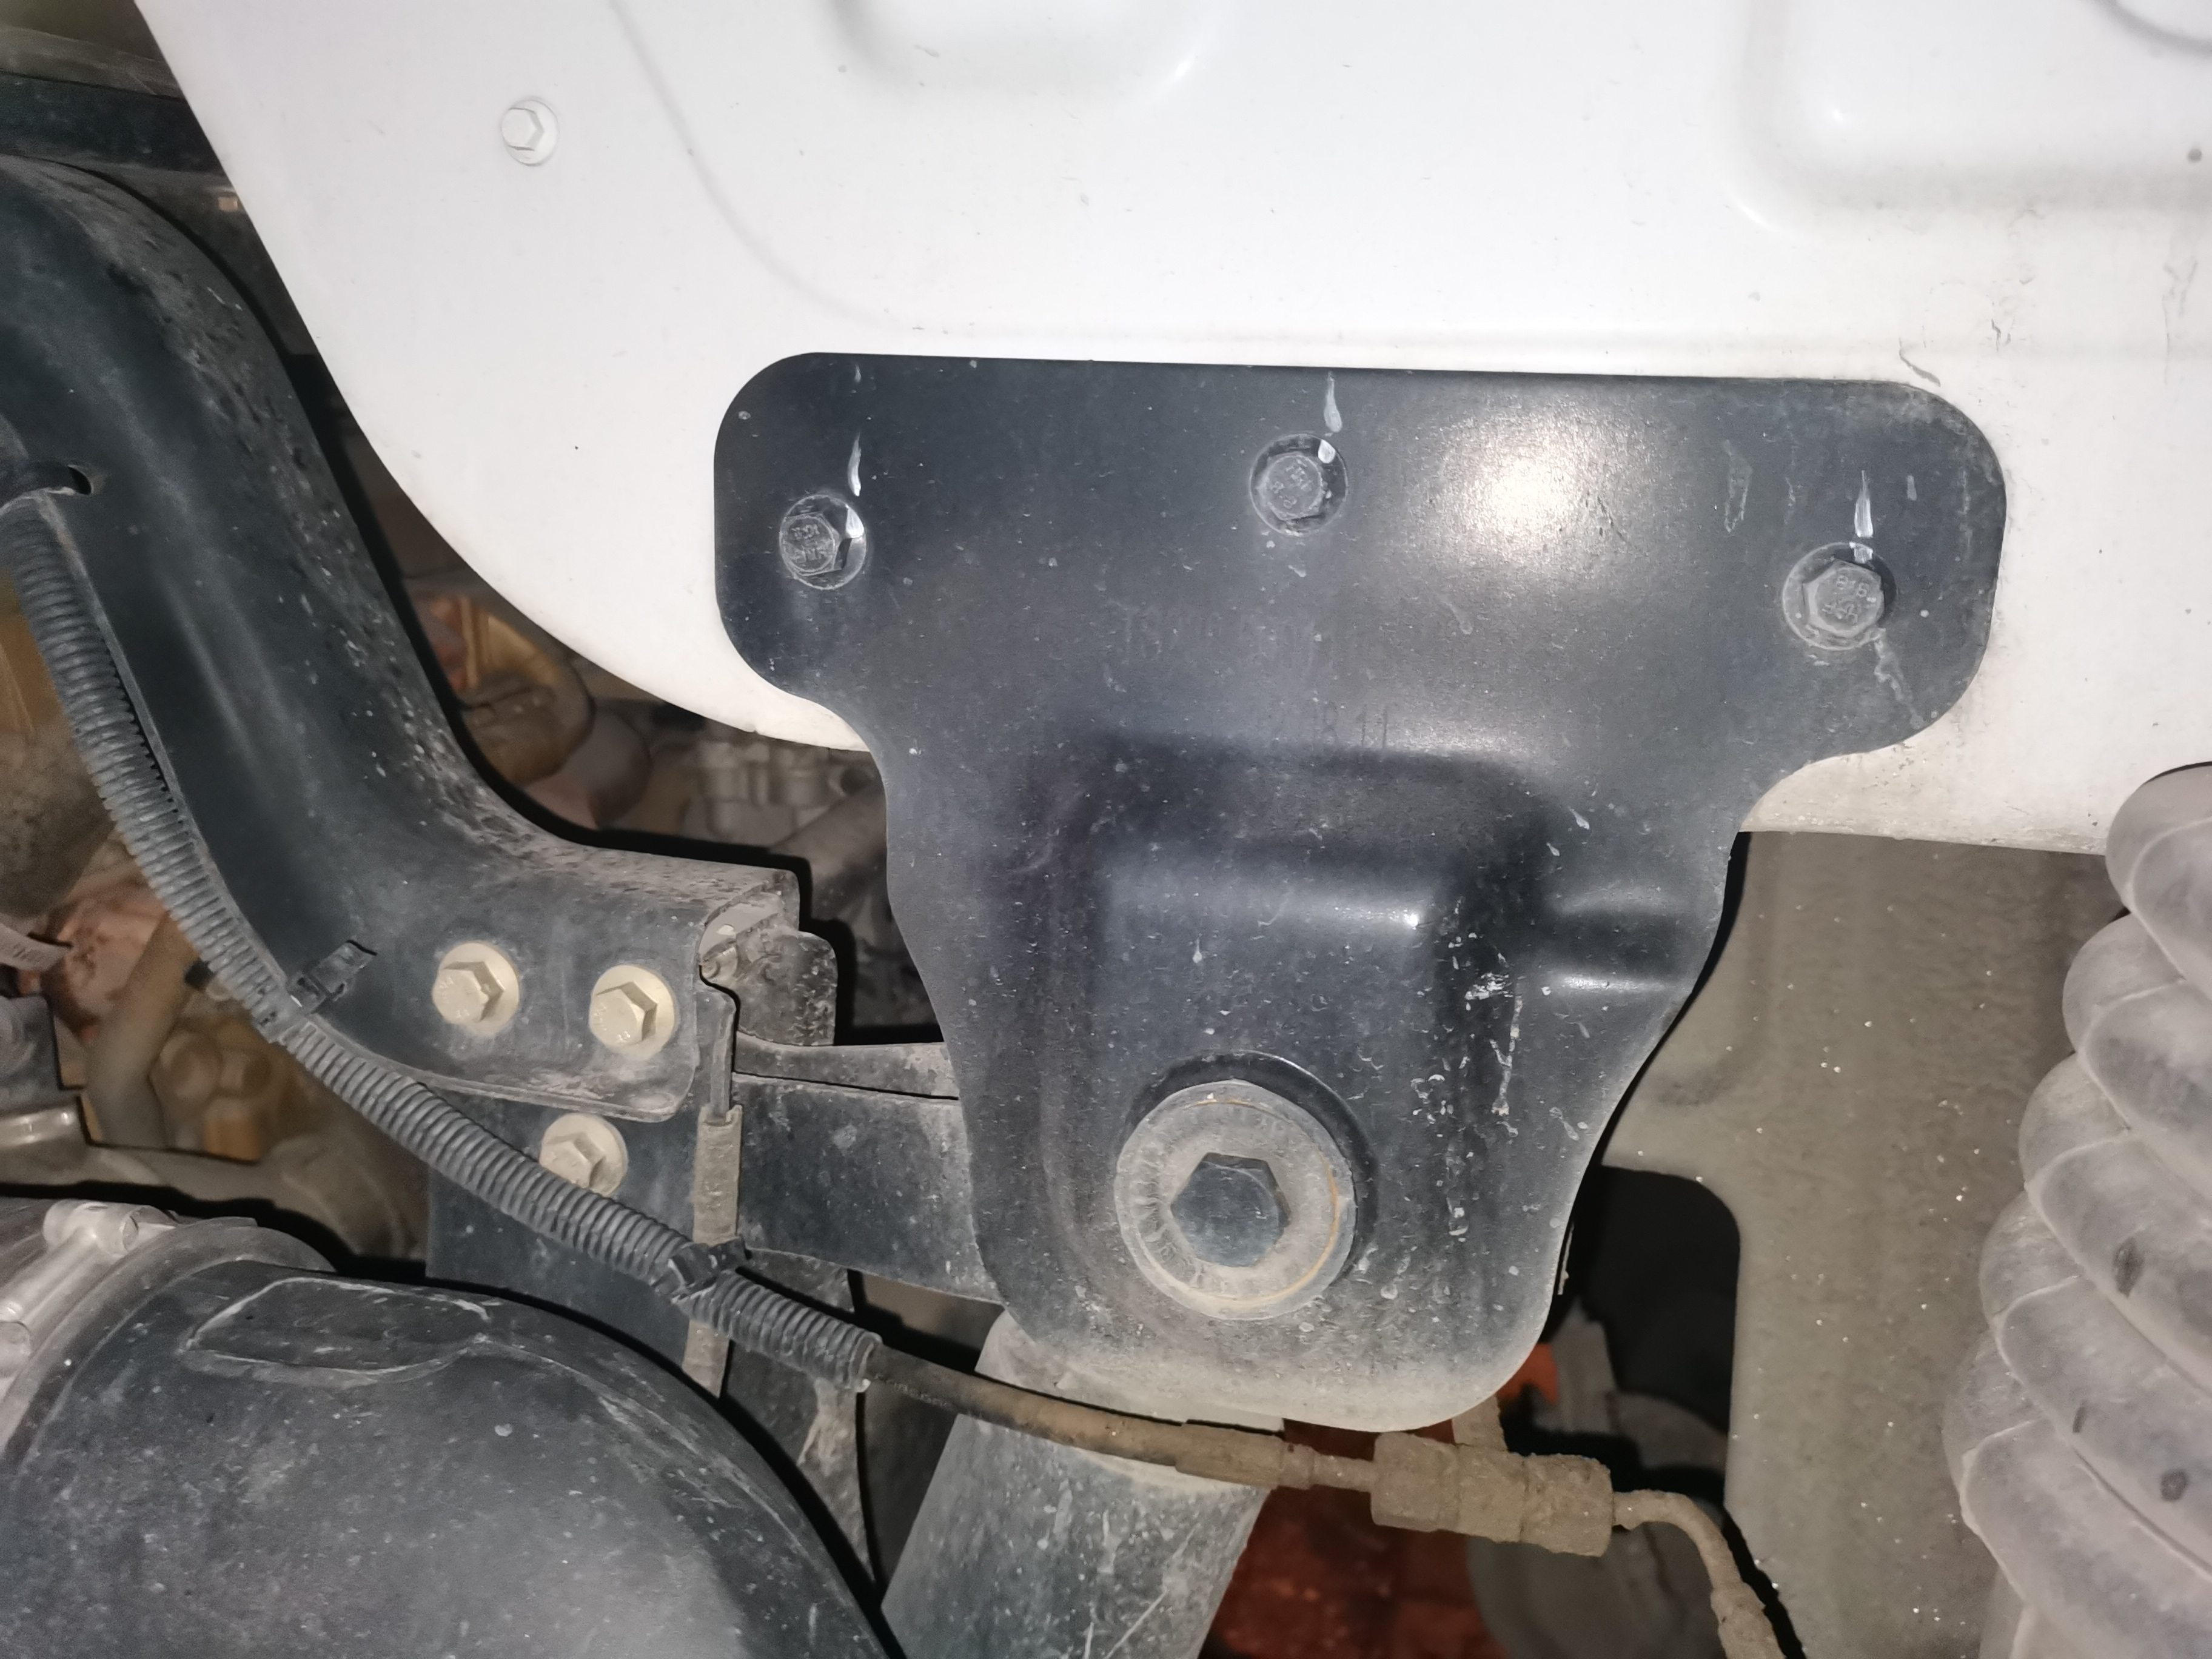bolt_a: (1163, 1148, 1296, 1274), (1794, 552, 1893, 647), (1254, 444, 1338, 526), (773, 505, 852, 580), (585, 979, 660, 1053), (425, 958, 505, 1026)
vague: (533, 1129, 608, 1199), (498, 105, 547, 155)
